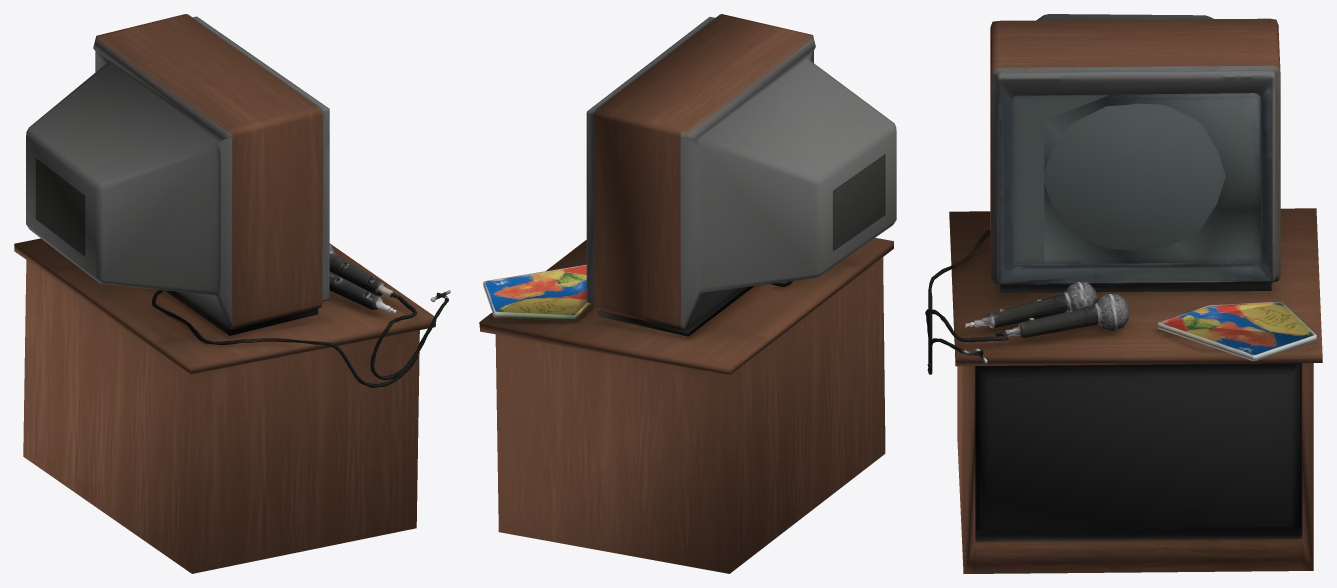
The model's file is karaoke.glb.
3 renders of one model, left to right at view 1: azimuth 30°, elevation 25°; view 2: azimuth 150°, elevation 25°; view 3: azimuth 270°, elevation 25°, orthographic. The views are drawn at different scales.
Visible parts, largest first — view 1: tripo_node_7e781df5-ac5f-4de7-a1d3-f001fba5714e; view 2: tripo_node_7e781df5-ac5f-4de7-a1d3-f001fba5714e; view 3: tripo_node_7e781df5-ac5f-4de7-a1d3-f001fba5714e.
Boxes of the visible parts, bbox=[...] form: tripo_node_7e781df5-ac5f-4de7-a1d3-f001fba5714e: bbox=[14, 14, 450, 573]; tripo_node_7e781df5-ac5f-4de7-a1d3-f001fba5714e: bbox=[479, 14, 896, 573]; tripo_node_7e781df5-ac5f-4de7-a1d3-f001fba5714e: bbox=[925, 14, 1322, 573].
Bounding box in the file's own units: 0.791 × 0.998 × 0.7754.
1 material, 1 textured.
